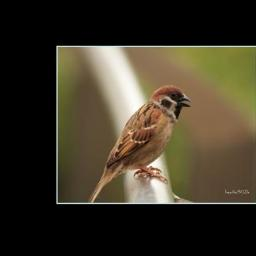Sparrow: (87, 84, 192, 203)
